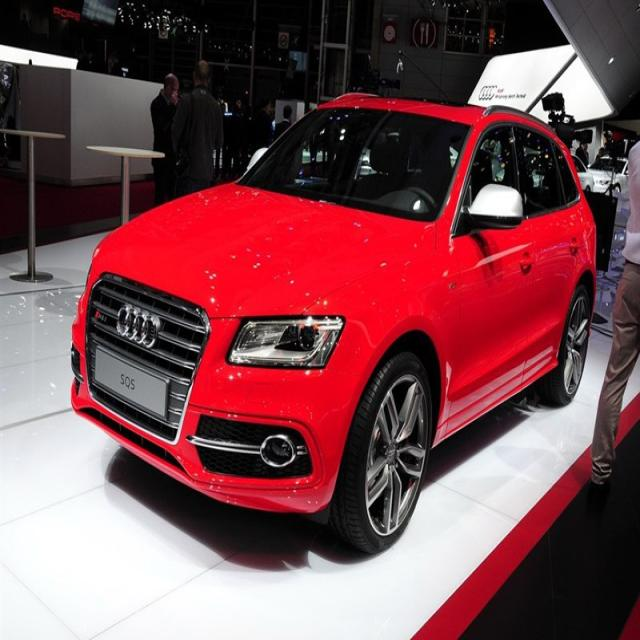door: (514, 121, 584, 363)
front_bumper: (68, 292, 352, 517)
front_glass: (236, 102, 475, 224)
front_left_side_door: (442, 106, 534, 443)
front_left_side_light: (223, 312, 346, 368)
front_left_side_mirror: (458, 181, 522, 237)
wheel: (326, 350, 432, 551), (534, 282, 590, 408)
